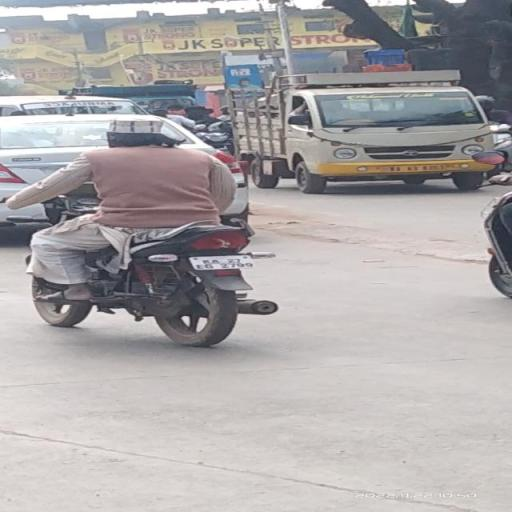bike: (3, 111, 285, 349)
numberplate: (192, 252, 258, 274)
withouthelmet: (107, 116, 161, 146)
